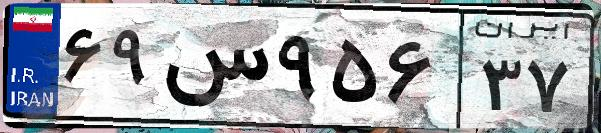3: (475, 38, 525, 113)
5: (330, 28, 385, 110)
6: (385, 28, 445, 110), (57, 26, 110, 100)
7: (525, 38, 570, 115)
9: (270, 28, 330, 110), (110, 28, 158, 98)
س: (158, 20, 270, 120)
